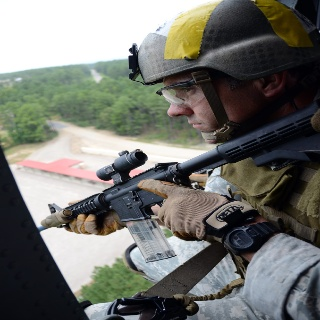rifle: (31, 101, 320, 264)
